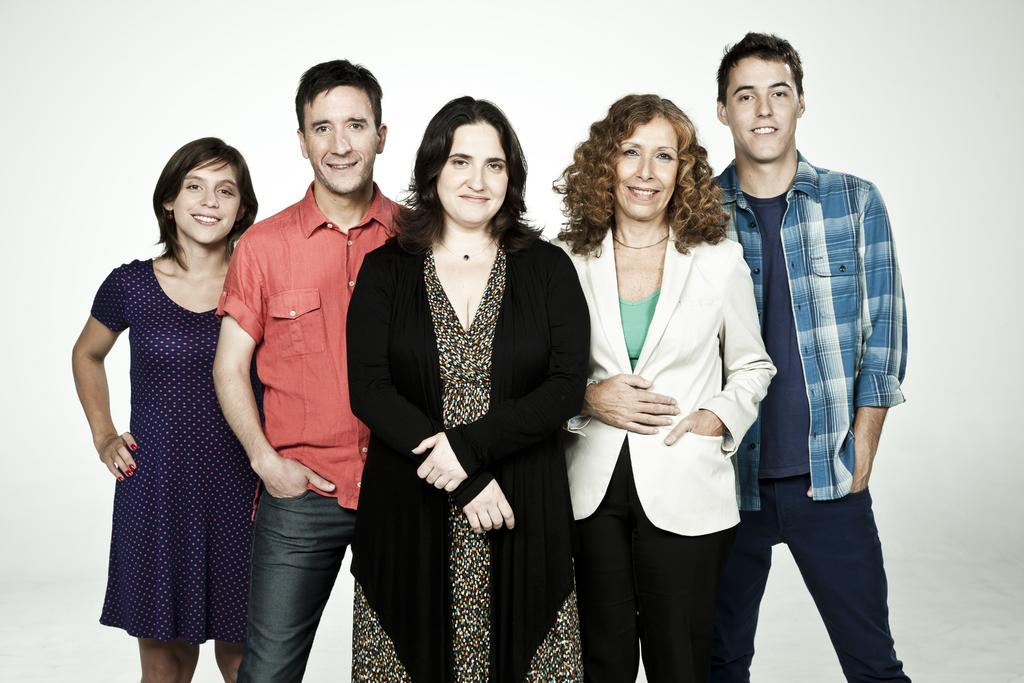Sem Máscara: (301, 79, 377, 192), (429, 120, 504, 225), (606, 110, 674, 218), (723, 56, 792, 152), (173, 158, 240, 246)
